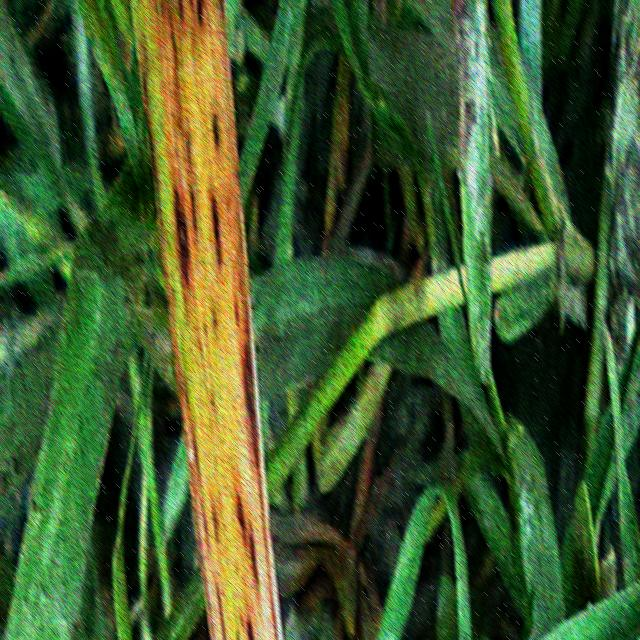NBS: (242, 351, 258, 474), (174, 192, 188, 288), (211, 197, 222, 270), (237, 494, 247, 557), (216, 580, 226, 640), (249, 533, 258, 583), (193, 433, 200, 483), (190, 187, 196, 243), (212, 112, 219, 149), (203, 515, 209, 555), (246, 614, 254, 640), (185, 135, 190, 170), (212, 509, 217, 544), (196, 2, 201, 25), (234, 301, 238, 328), (240, 610, 243, 633), (213, 311, 216, 331), (203, 320, 206, 338), (185, 395, 188, 411), (236, 629, 239, 640)
